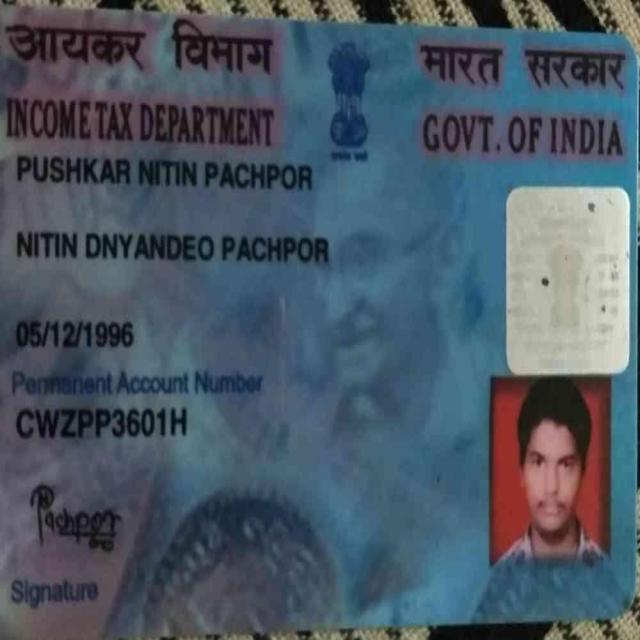pan_card: (0, 7, 632, 633)
